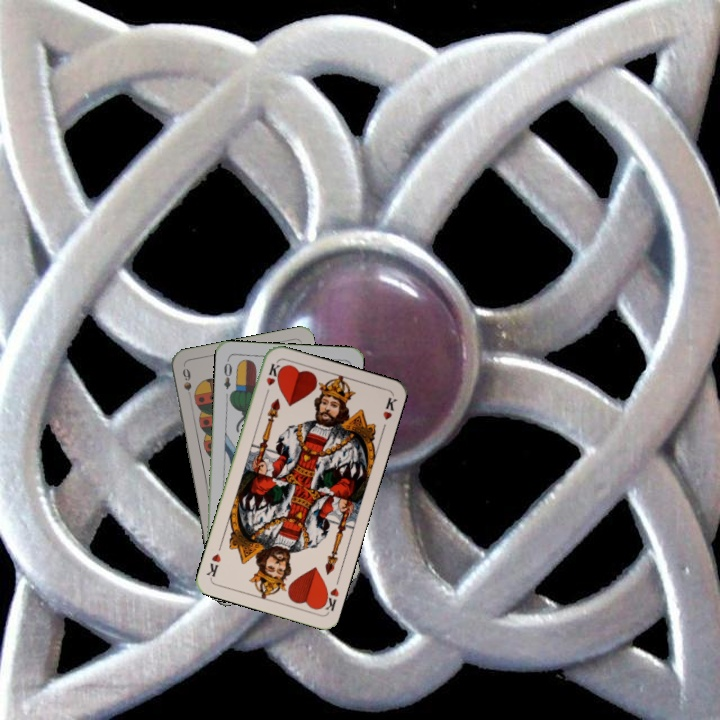EO: (220, 356, 235, 392)
HK: (262, 360, 284, 399), (317, 583, 341, 615)
S9: (178, 364, 195, 404)
